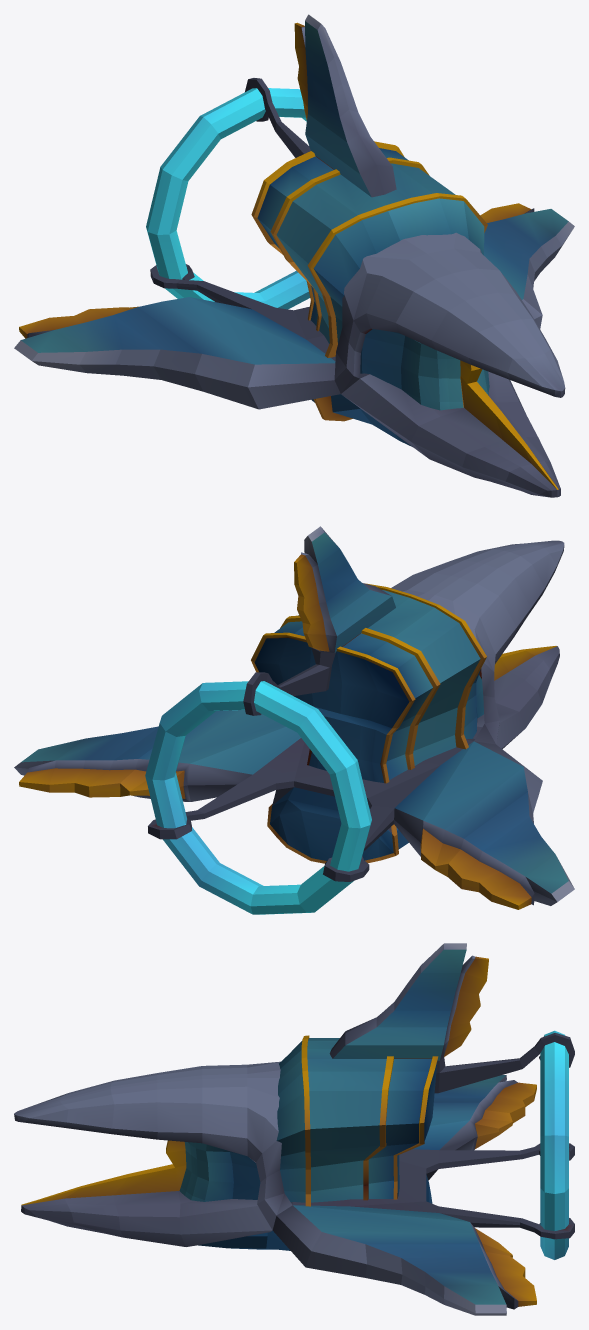
3 renders of one model, top to bottom at view 1: azimuth 30°, elevation 25°; view 2: azimuth 150°, elevation 25°; view 3: azimuth 270°, elevation 25°, orthographic. The views are drawn at different scales.
Parts seen in each view (by area): view 1: WaterShip_0, WaterShip.Ring_1; view 2: WaterShip_0, WaterShip.Ring_1; view 3: WaterShip_0, WaterShip.Ring_1.
Boxes of the visible parts, left/top/right/bottom form: WaterShip_0: left=14, top=14, right=574, bottom=497; WaterShip.Ring_1: left=146, top=88, right=310, bottom=309; WaterShip_0: left=14, top=526, right=574, bottom=909; WaterShip.Ring_1: left=145, top=681, right=371, bottom=914; WaterShip_0: left=14, top=943, right=574, bottom=1315; WaterShip.Ring_1: left=540, top=1030, right=568, bottom=1259.
Size of the model in its own units: 13.55 by 8.17 by 13.56.
